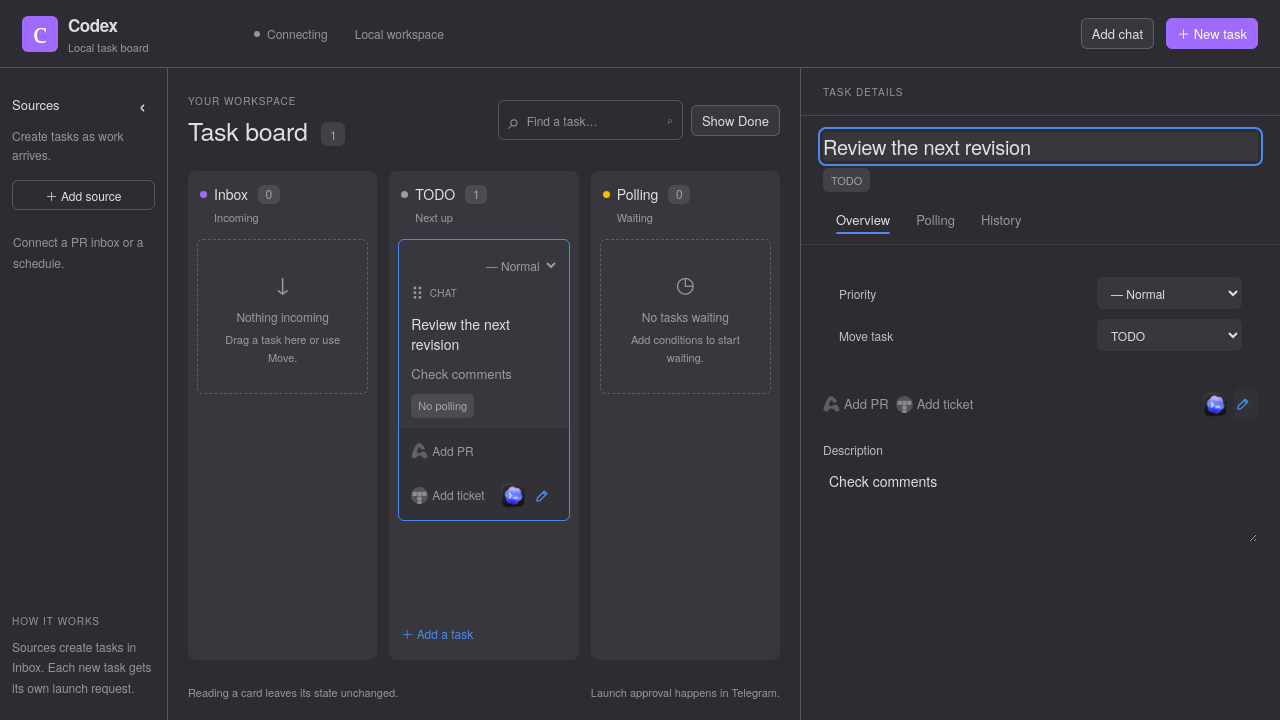
Test: keeps failed Overview drafts reachable after dismissal
Step 1. Replace the text in the text box named "Title" with "Retained on dismissal" → (1040, 146), box left=823, top=132, right=1258, bottom=161
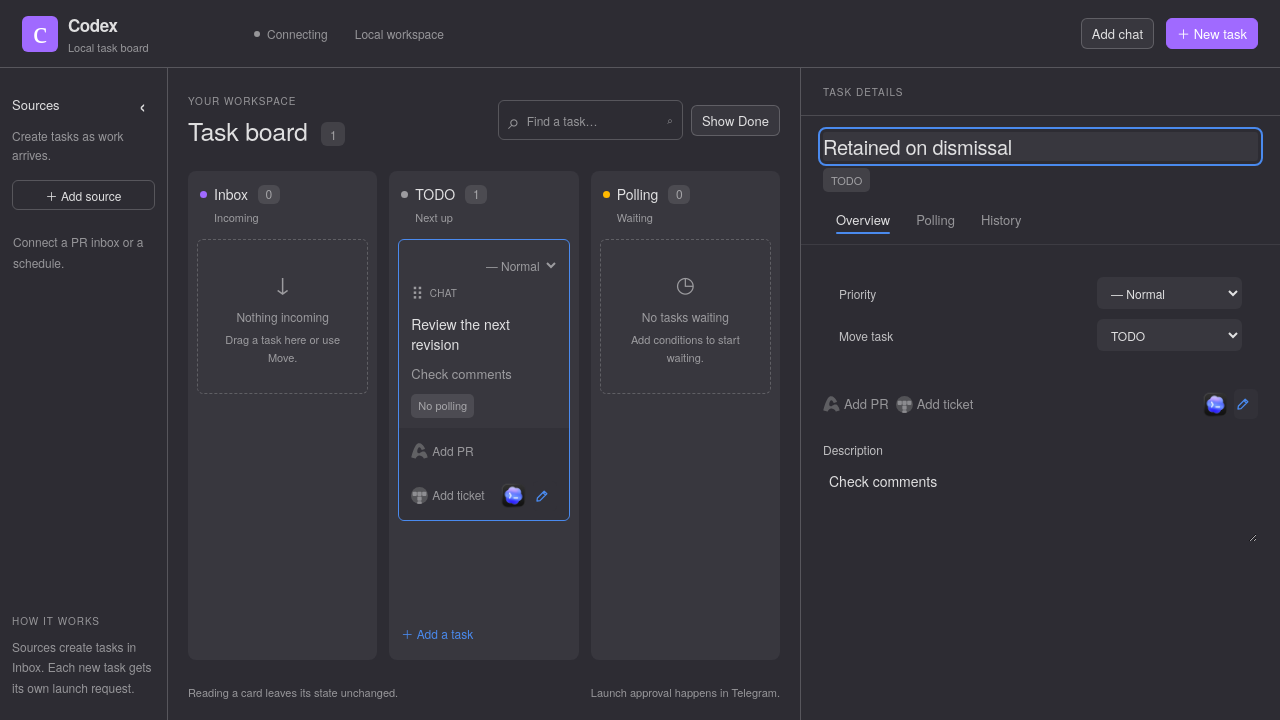
Step 2. Press Escape in the text box named "Title", box left=823, top=132, right=1258, bottom=161
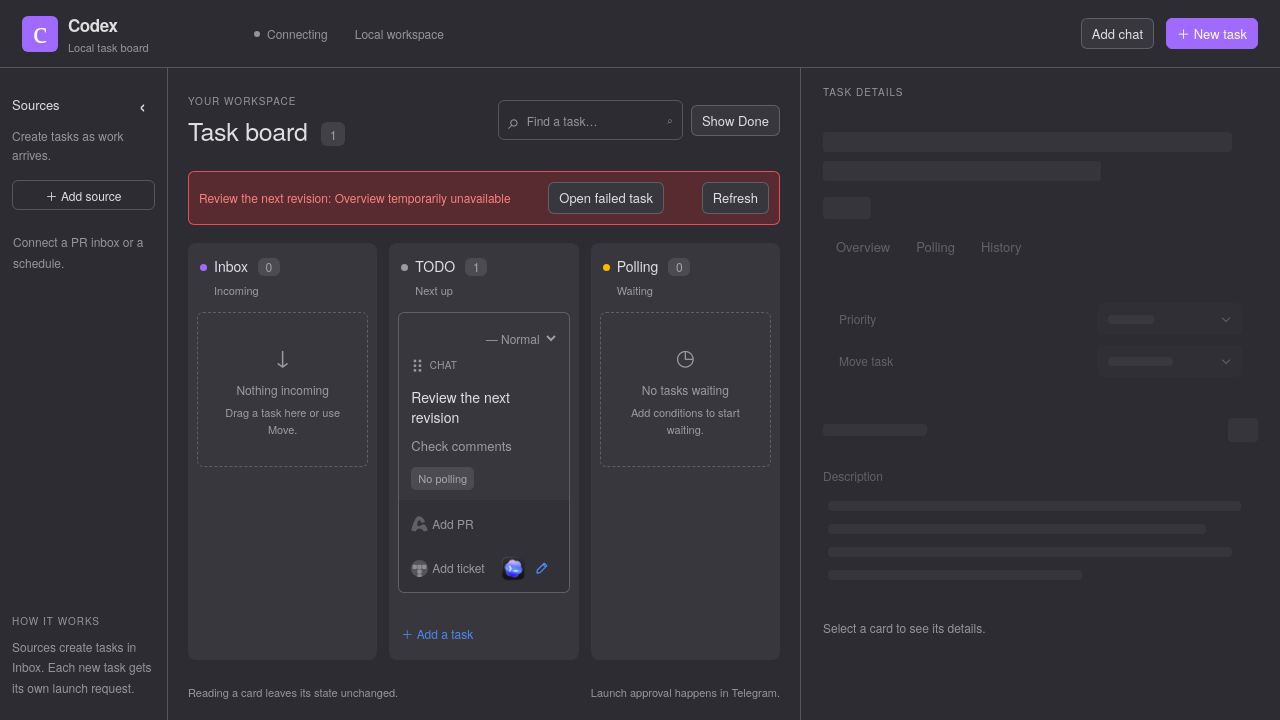
Step 3. Click the button "Open failed task" → (606, 198), box left=548, top=182, right=664, bottom=214
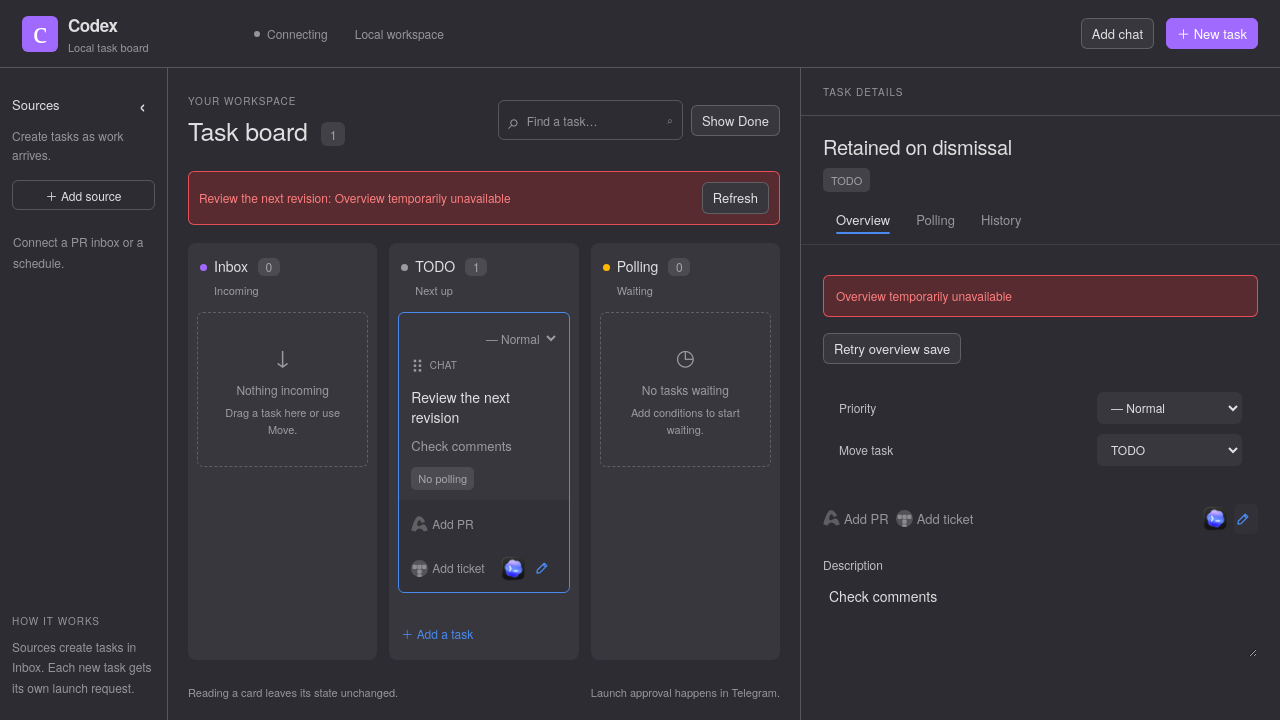
Result: the button "Retry overview save" is shown at left=823, top=333, right=961, bottom=364
